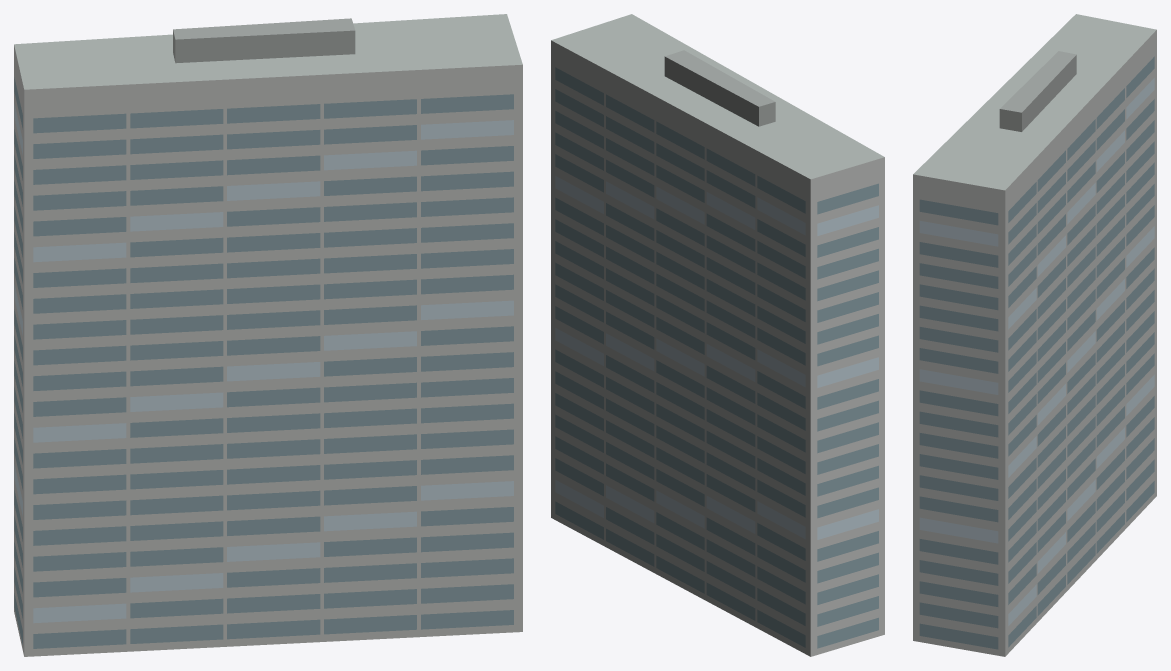
File: fallback-jamsil-els-155.glb
The picture shows the model from 3 angles, left to right: view 1: azimuth 30°, elevation 25°; view 2: azimuth 150°, elevation 25°; view 3: azimuth 270°, elevation 25°; orthographic projection. The views are drawn at different scales.
Parts seen in each view (by area): view 1: fallback-jamsil-els-155; view 2: fallback-jamsil-els-155; view 3: fallback-jamsil-els-155.
Part boxes in pixels (box(x1,y1,x2,y2)): fallback-jamsil-els-155: box(14, 14, 522, 656); fallback-jamsil-els-155: box(551, 14, 884, 656); fallback-jamsil-els-155: box(913, 14, 1156, 656).
Bounding box in the file's own units: 46.73 × 60 × 27.28.
